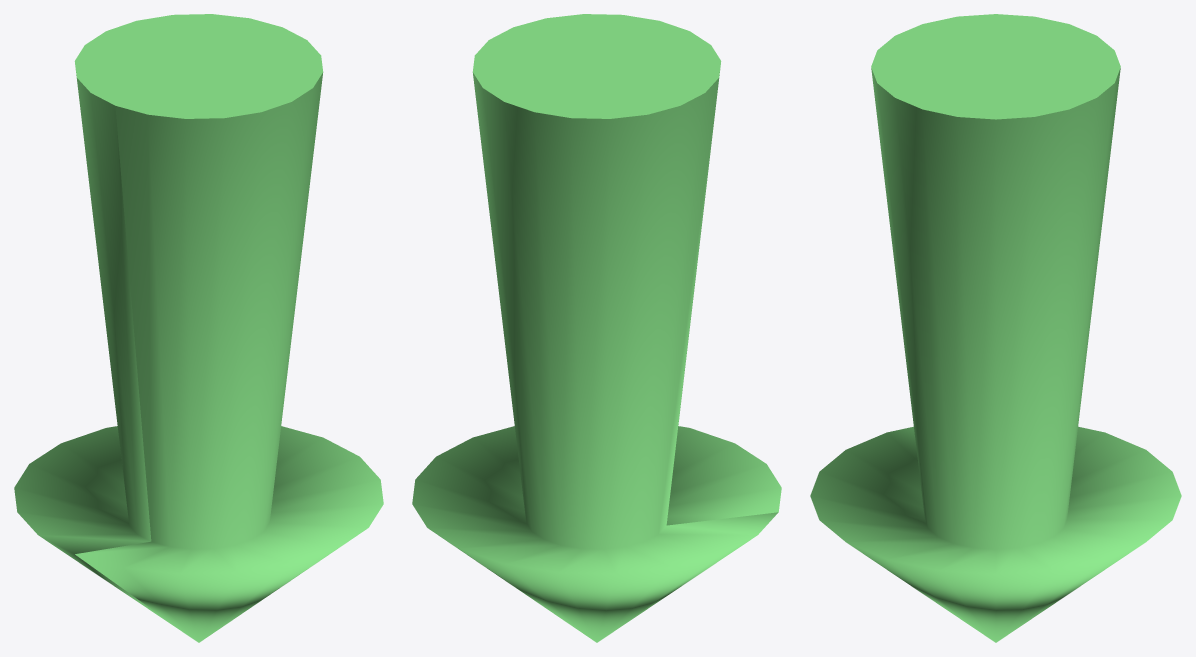
File: arrow.fbx
The picture shows the model from 3 angles, left to right: view 1: azimuth 30°, elevation 25°; view 2: azimuth 150°, elevation 25°; view 3: azimuth 270°, elevation 25°; orthographic projection.
Visible parts, largest first — view 1: pCylinder1; view 2: pCylinder1; view 3: pCylinder1.
Part boxes in pixels (left/top/right/bottom): pCylinder1: left=14, top=14, right=383, bottom=642; pCylinder1: left=412, top=14, right=781, bottom=642; pCylinder1: left=810, top=14, right=1181, bottom=642.
Bounding box in the file's own units: 1.86 × 3.18 × 1.86.
